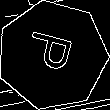P_E: (23, 31, 82, 80)
